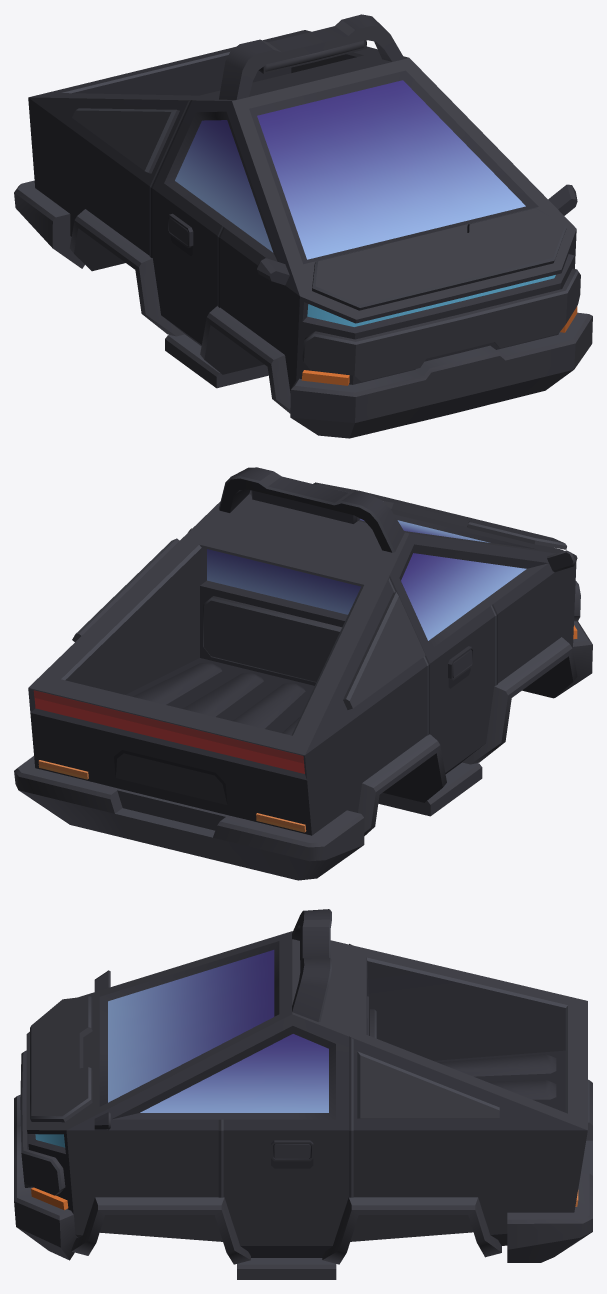
File: TeslaCybertruck_black.fbx
3 views of the same model, one above another, from view 1: azimuth 30°, elevation 25°; view 2: azimuth 150°, elevation 25°; view 3: azimuth 270°, elevation 25° (orthographic). The views are drawn at different scales.
Visible parts, largest first — view 1: Car_4; view 2: Car_4; view 3: Car_4.
Part boxes in pixels (x1,y1,x2,y2): Car_4: (14, 14, 592, 438); Car_4: (14, 467, 592, 880); Car_4: (14, 909, 592, 1279).
Size of the model in its own units: 2.77 by 2.41 by 4.53.
